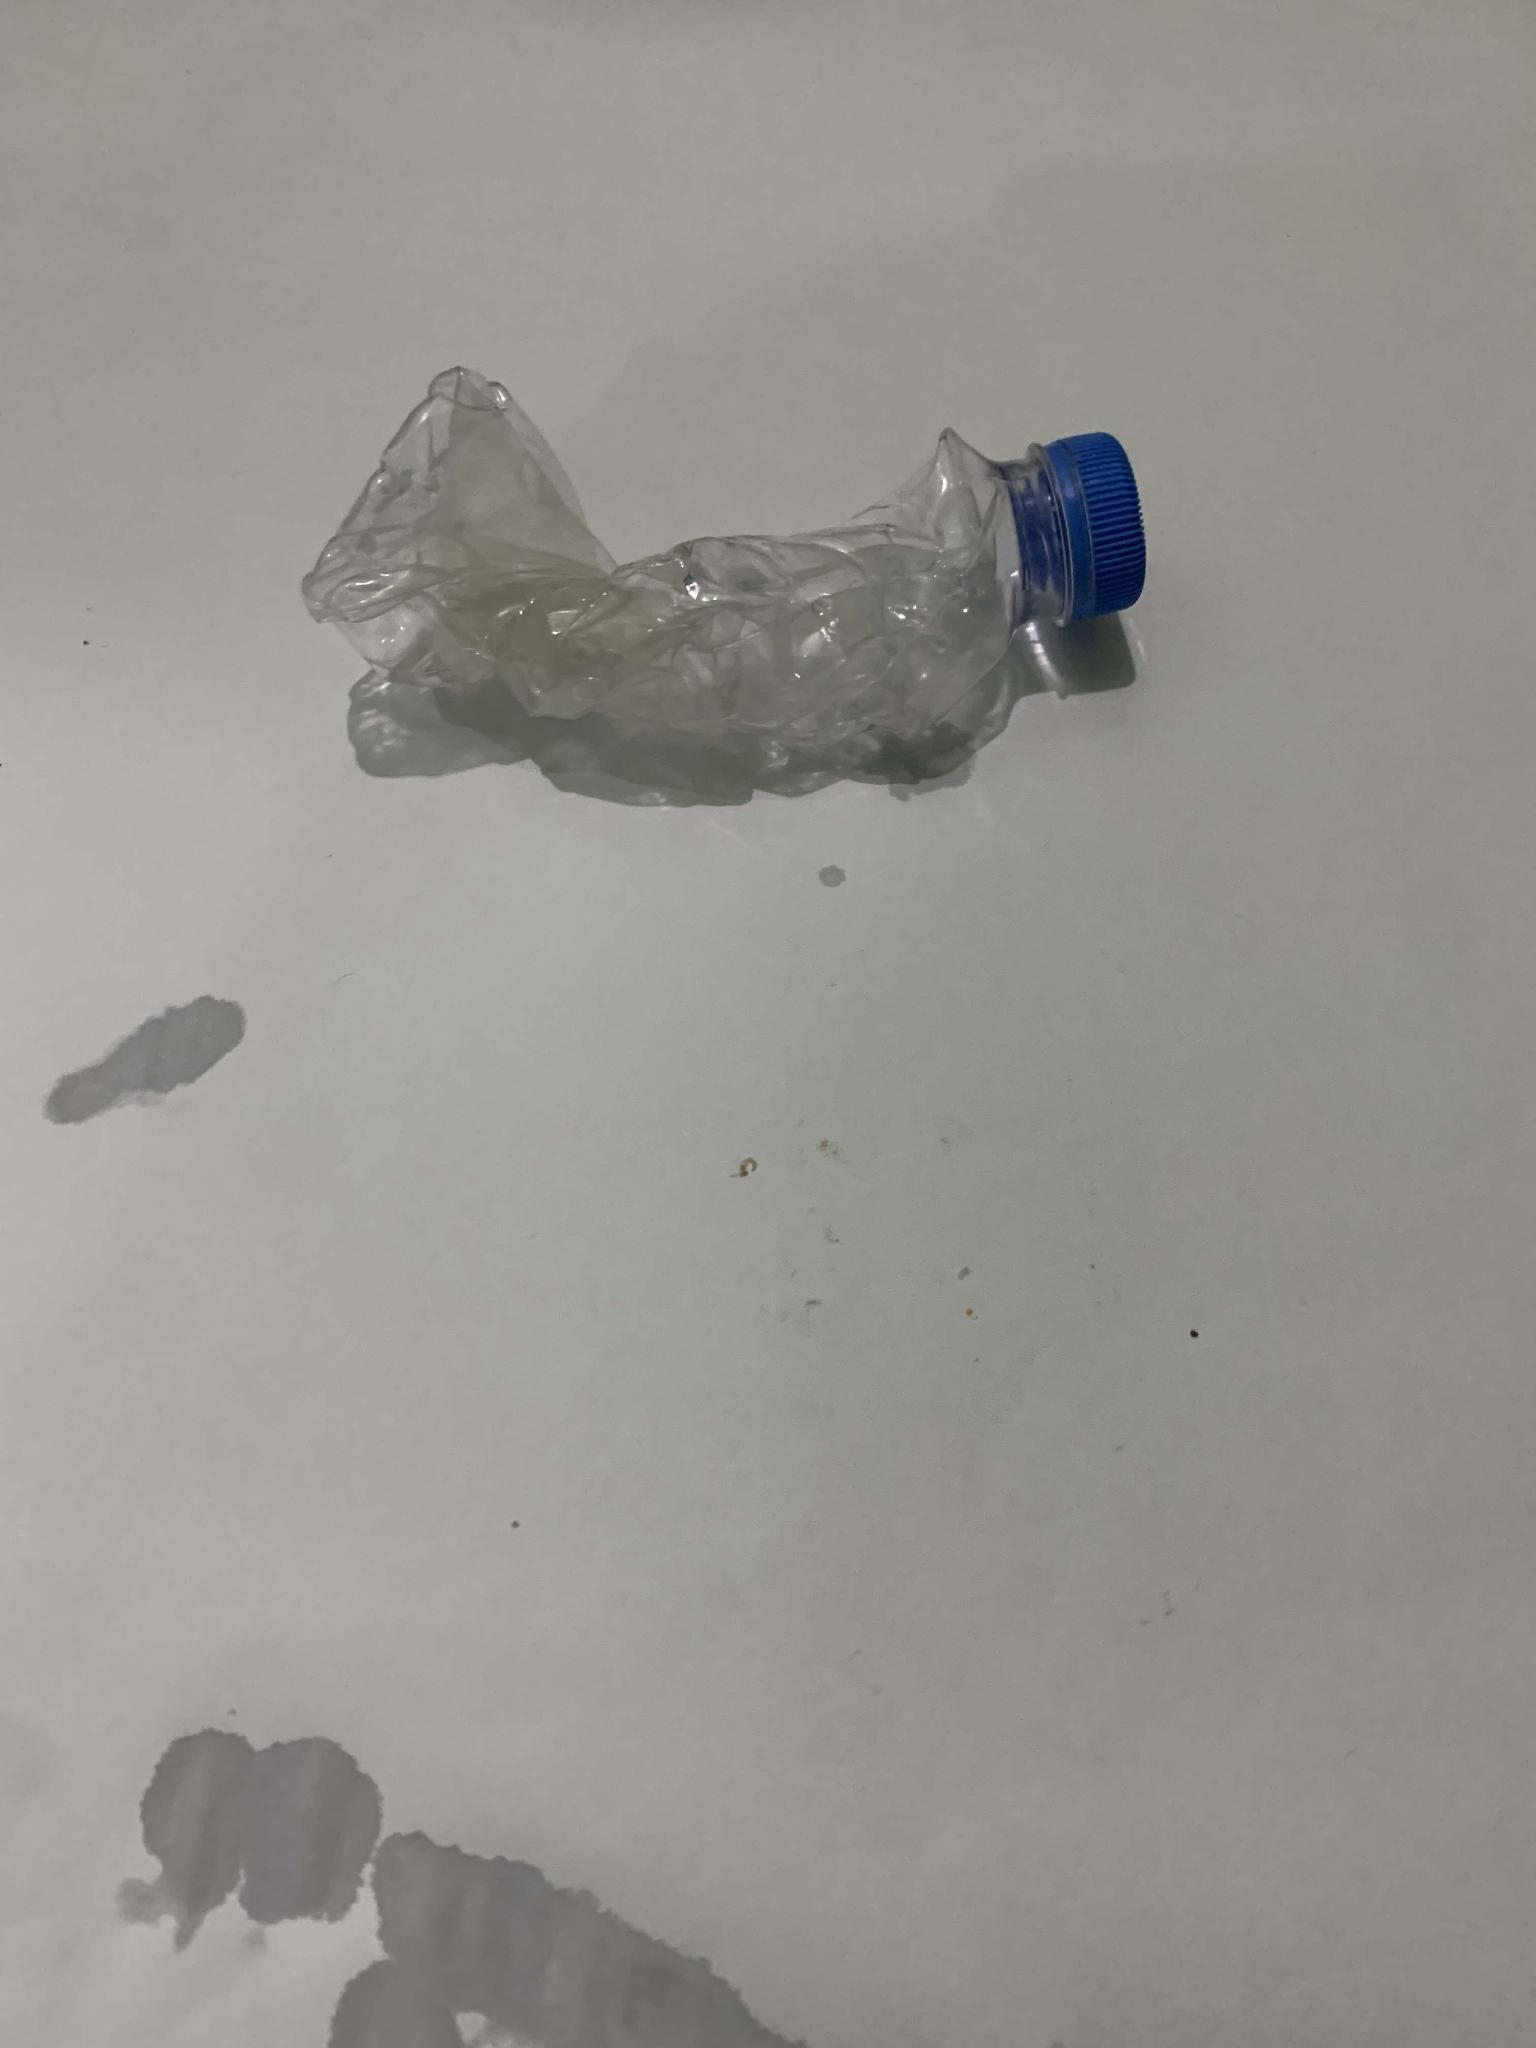bottle: (287, 350, 1180, 806)
